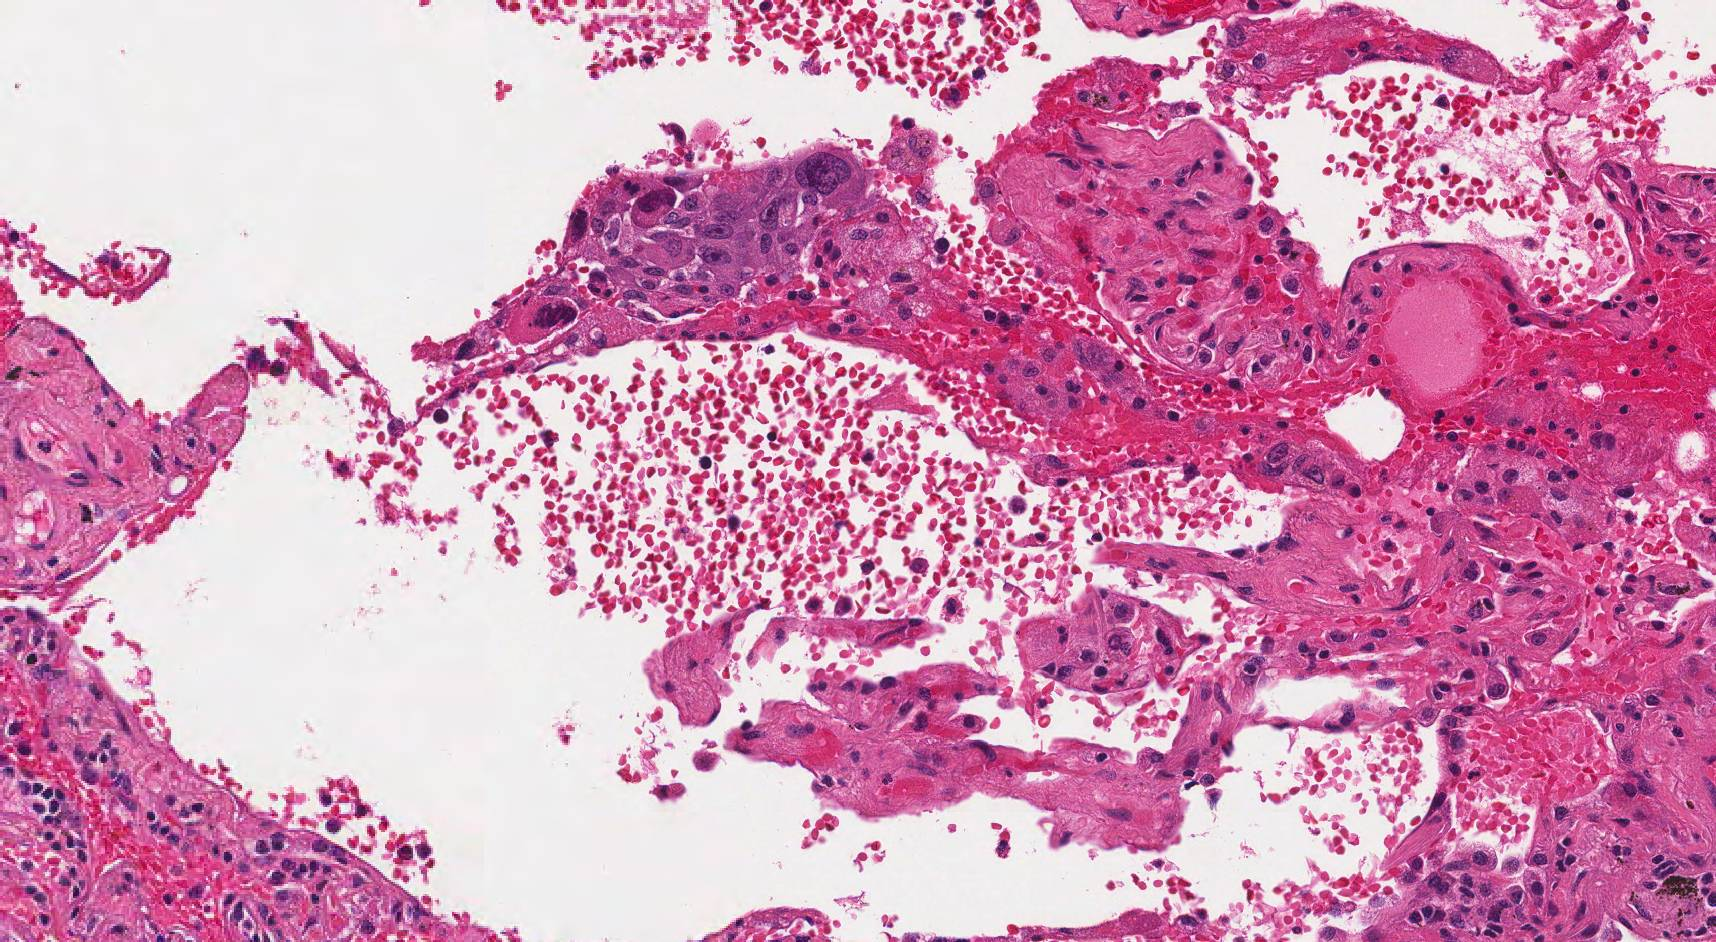stas: (567, 144, 871, 331)
